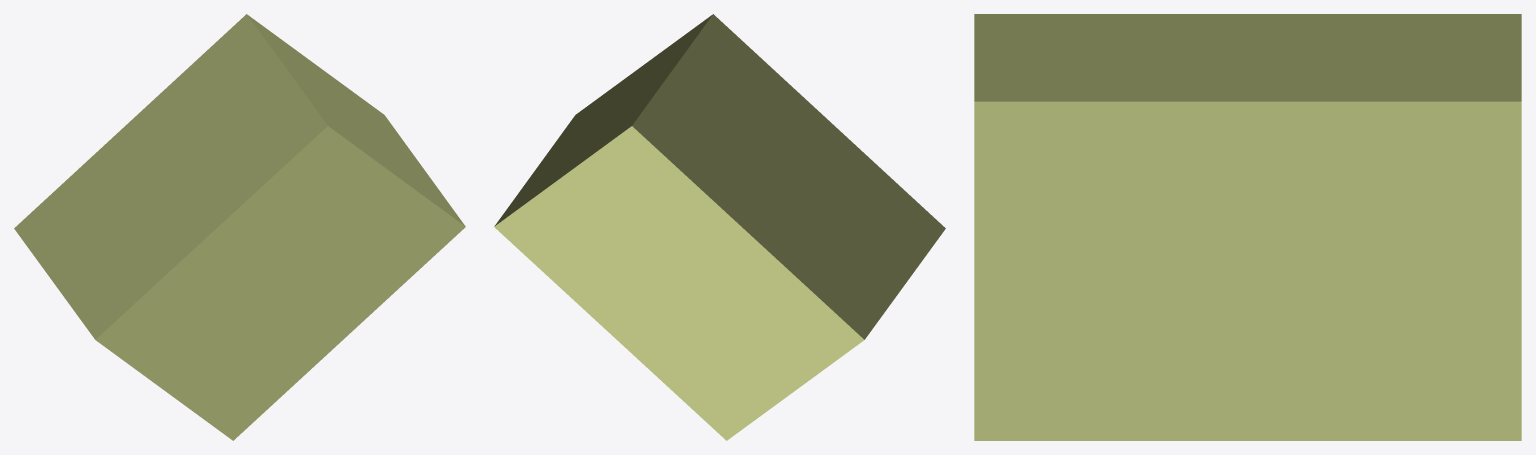
3 views of the same model, side by side, from view 1: azimuth 30°, elevation 25°; view 2: azimuth 150°, elevation 25°; view 3: azimuth 270°, elevation 25° (orthographic). The views are drawn at different scales.
Parts seen in each view (by area): view 1: 0_1_2_0_3_3_2_1_2_3_3; view 2: 0_1_2_0_3_3_2_1_2_3_3; view 3: 0_1_2_0_3_3_2_1_2_3_3.
Boxes of the visible parts, <box> form: 0_1_2_0_3_3_2_1_2_3_3: <box>14,14,465,440</box>; 0_1_2_0_3_3_2_1_2_3_3: <box>494,14,945,440</box>; 0_1_2_0_3_3_2_1_2_3_3: <box>974,14,1521,440</box>.
Size of the model in its own units: 7.89 by 6.94 by 6.
